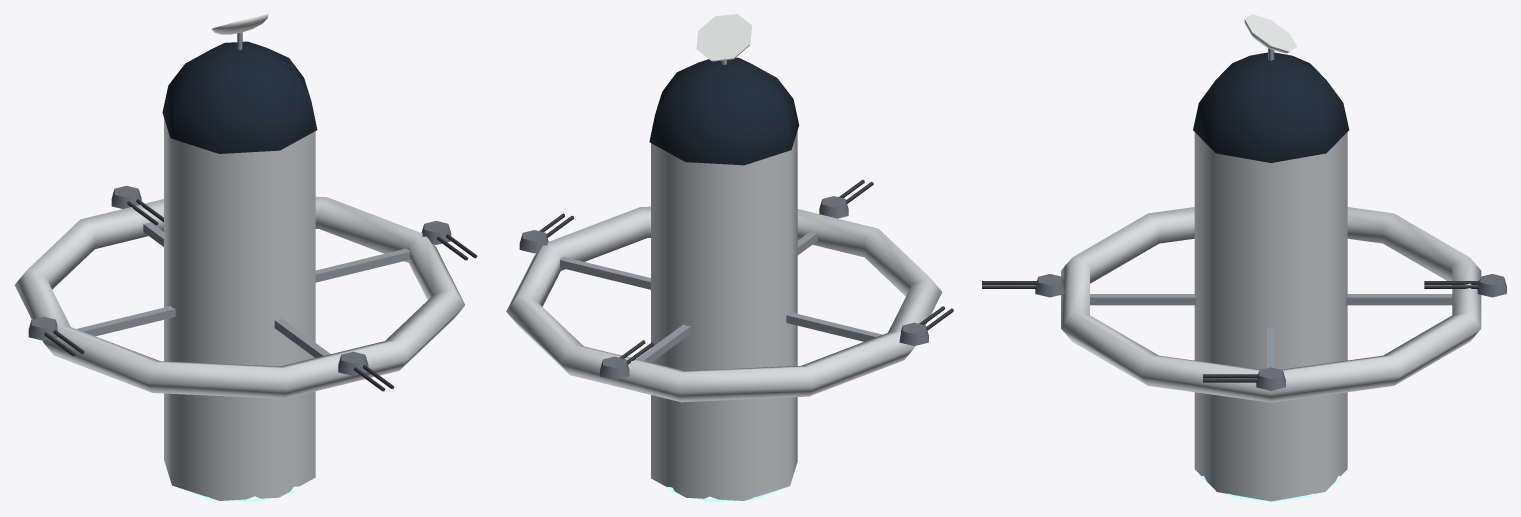
File: space_orbital_command_center_t3_lod1.glb
3 renders of one model, left to right at view 1: azimuth 30°, elevation 25°; view 2: azimuth 150°, elevation 25°; view 3: azimuth 270°, elevation 25°, orthographic. The views are drawn at different scales.
Parts seen in each view (by area): view 1: body, ring, turret_1, turret_2, turret_3, turret_0, antenna_0; view 2: body, ring, antenna_0, turret_3, turret_2, turret_1, turret_0; view 3: body, ring, antenna_0, turret_0, turret_1, turret_3.
Boxes of the visible parts, x1,y1,x2,y2 form: body: [162, 41, 317, 502]; ring: [14, 196, 464, 398]; turret_1: [338, 351, 394, 391]; turret_2: [28, 316, 84, 356]; turret_3: [111, 185, 163, 225]; turret_0: [421, 221, 477, 260]; antenna_0: [211, 14, 268, 50]; body: [649, 57, 799, 502]; ring: [506, 206, 942, 402]; antenna_0: [696, 14, 752, 64]; turret_3: [600, 340, 654, 379]; turret_2: [899, 306, 953, 345]; turret_1: [819, 179, 873, 218]; turret_0: [519, 213, 573, 253]; body: [1193, 52, 1349, 502]; ring: [1061, 207, 1481, 402]; antenna_0: [1244, 14, 1297, 60]; turret_0: [1203, 367, 1285, 390]; turret_1: [982, 274, 1064, 297]; turret_3: [1424, 274, 1506, 297].
Size of the model in its own units: 28 by 29.49 by 30.87.
